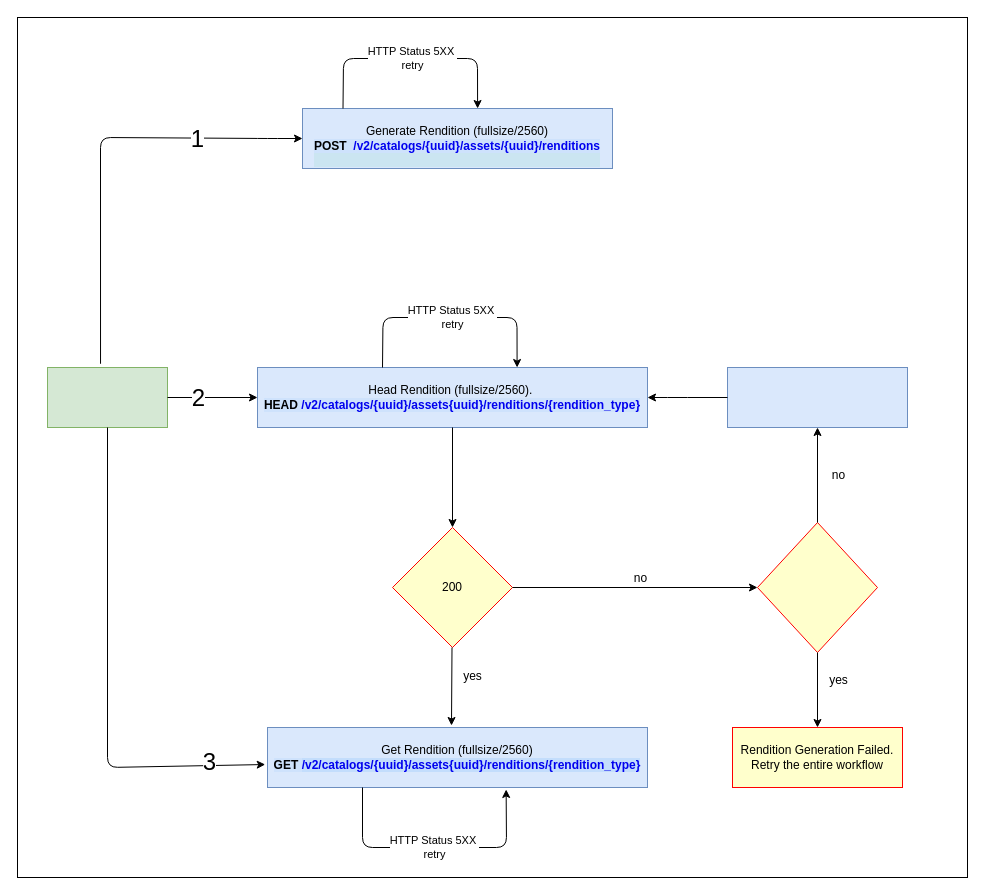
The diagram is 985 pixels wide and 895 high, and some of its shapes have lost their labels. The box of each missing label's shape, as (x1, y1, x2, y2) in pixels:
HEAD Rendition Again with exponential backoff: (726, 366, 908, 428)
Timeout of 10 min: (756, 522, 878, 652)
User Logged to Lighroom from Partner Application: (46, 366, 168, 428)
